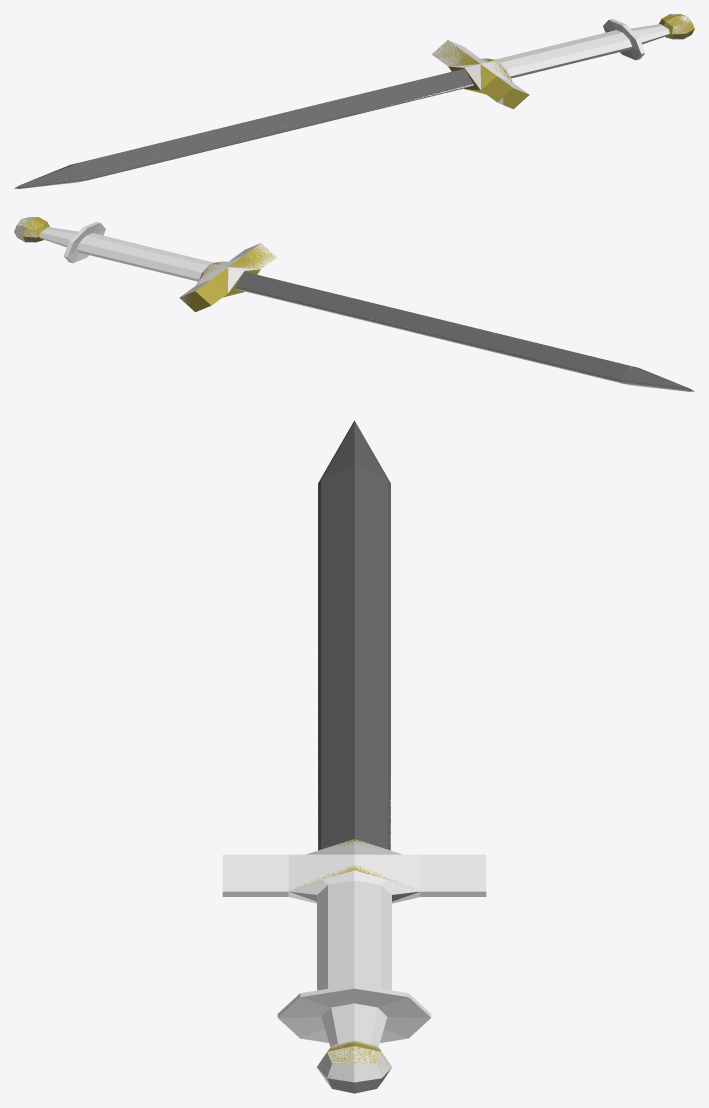
File: sword.glb
The picture shows the model from 3 angles, top to bottom: view 1: azimuth 30°, elevation 25°; view 2: azimuth 150°, elevation 25°; view 3: azimuth 270°, elevation 25°; orthographic projection. The views are drawn at different scales.
Parts seen in each view (by area): view 1: Blade, Handle, sword, Hilt, Ball; view 2: Blade, Handle, sword, Hilt, Ball; view 3: Blade, Handle, Hilt, Ball, sword.
Boxes of the visible parts, <box> form: Blade: <box>14,68,472,188</box>; Handle: <box>483,19,669,81</box>; sword: <box>16,14,694,188</box>; Hilt: <box>431,40,527,104</box>; Ball: <box>665,14,692,39</box>; Blade: <box>235,271,693,391</box>; Handle: <box>39,222,225,284</box>; sword: <box>14,217,694,391</box>; Hilt: <box>179,243,277,306</box>; Ball: <box>14,217,42,242</box>; Blade: <box>318,420,390,850</box>; Handle: <box>277,870,431,1046</box>; Hilt: <box>222,840,486,903</box>; Ball: <box>317,1040,391,1093</box>; sword: <box>292,655,416,1084</box>.
Bounding box in the file's own units: 16.23 × 0.6683 × 2.73.
2 materials, 1 textured.
